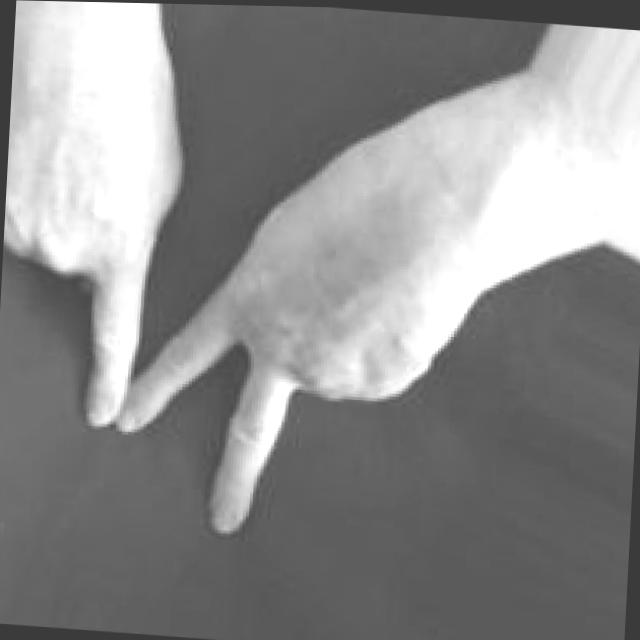N: (0, 0, 498, 565)
